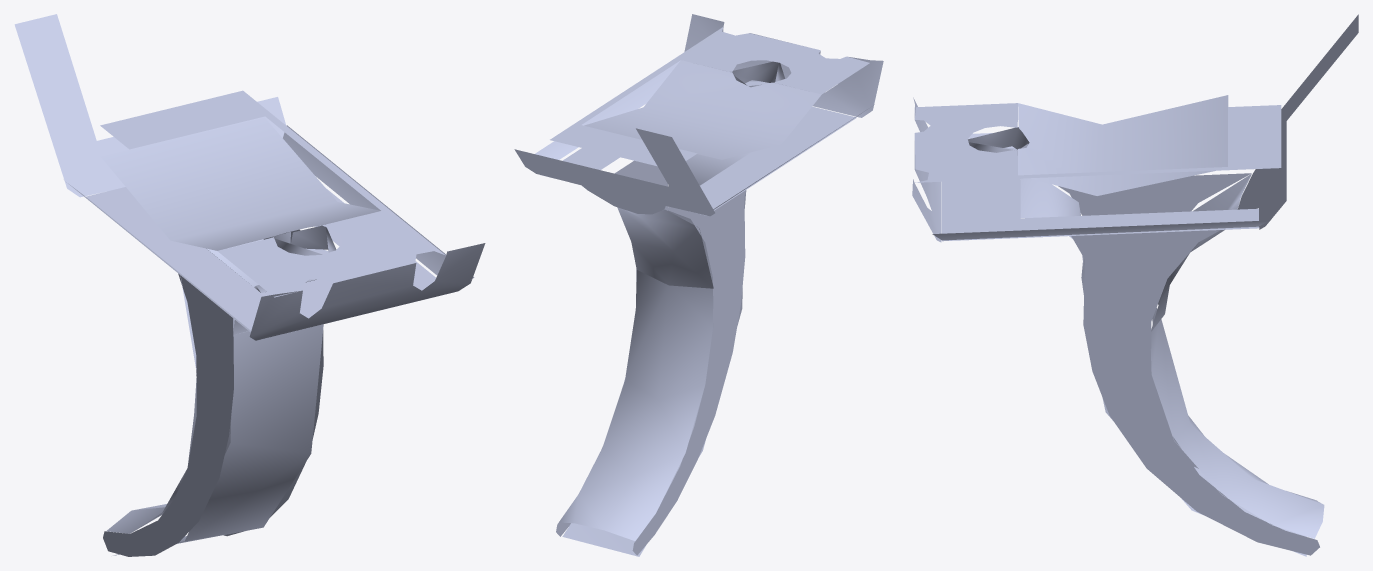
Rendered from trigger_two_stage.glb.
3 renders of one model, left to right at view 1: azimuth 30°, elevation 25°; view 2: azimuth 150°, elevation 25°; view 3: azimuth 270°, elevation 25°, orthographic. The views are drawn at different scales.
Visible parts, largest first — view 1: AK12_Trigger; view 2: AK12_Trigger; view 3: AK12_Trigger.
Part boxes in pixels (bbox=[...]): AK12_Trigger: bbox=[14, 14, 485, 556]; AK12_Trigger: bbox=[514, 14, 883, 556]; AK12_Trigger: bbox=[912, 14, 1358, 556].
Size of the model in its own units: 0.015 by 0.0338 by 0.0287.
